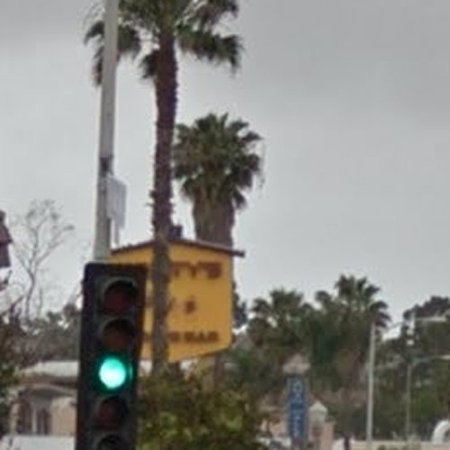汽車: (341, 360, 450, 449), (248, 351, 348, 439), (379, 301, 450, 372)
紅綠燈: (177, 34, 365, 225)
